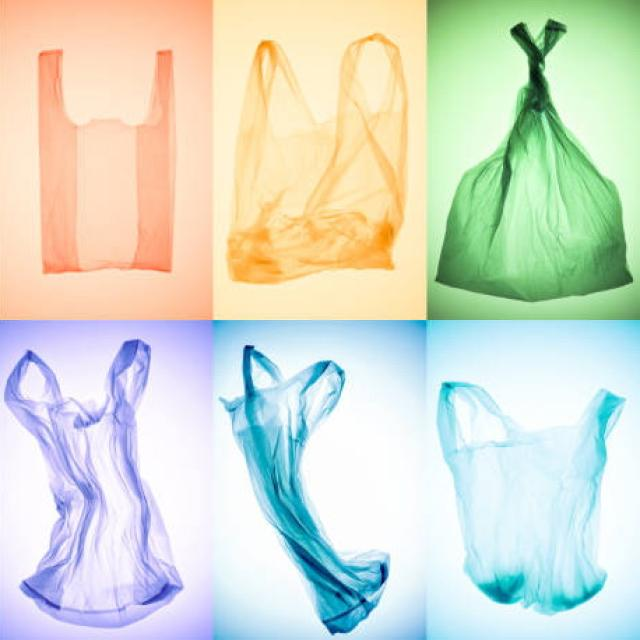Single-layer Plastic: (436, 20, 632, 301), (5, 339, 182, 627), (220, 345, 389, 634), (228, 35, 408, 282), (438, 382, 624, 613), (39, 50, 175, 272)
